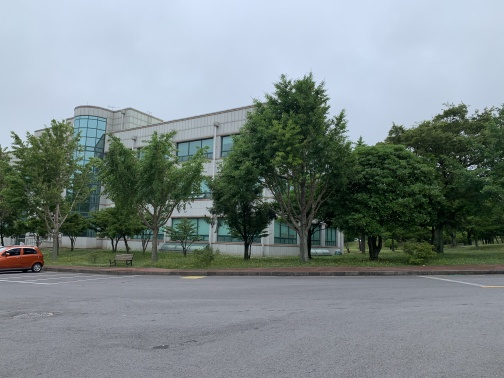Second Library: (31, 93, 346, 261)
